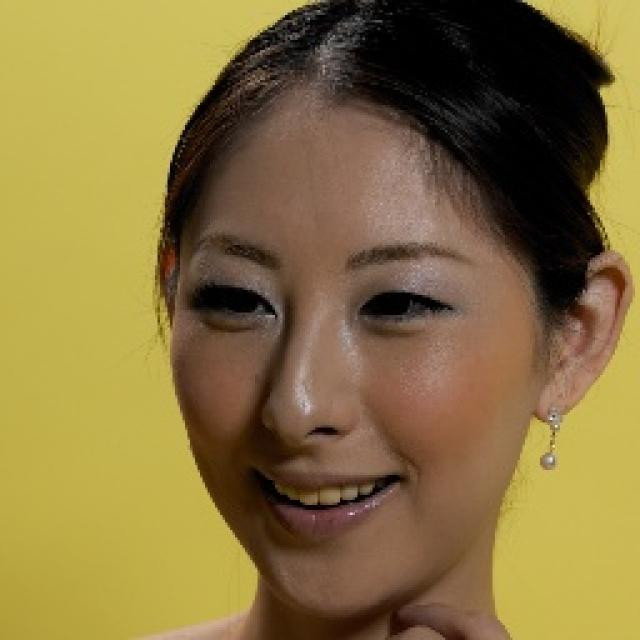earlobe: (532, 369, 582, 426)
eye: (355, 281, 451, 327), (193, 282, 279, 327)
nose: (258, 429, 355, 468)
wholeear: (531, 250, 634, 427)
